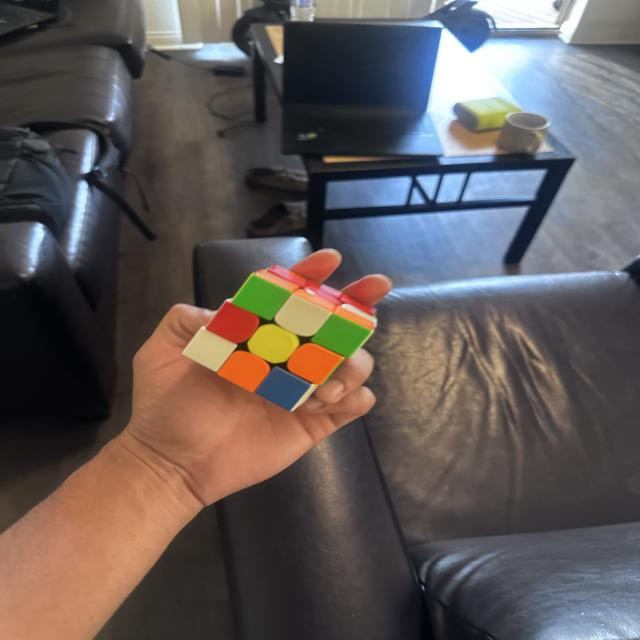sticker: (312, 306, 376, 358), (232, 270, 297, 321), (252, 365, 314, 413), (274, 289, 334, 337), (181, 326, 239, 372), (286, 342, 345, 387), (206, 300, 262, 344), (217, 349, 270, 394), (246, 323, 301, 365), (333, 304, 378, 332), (294, 287, 338, 313)
